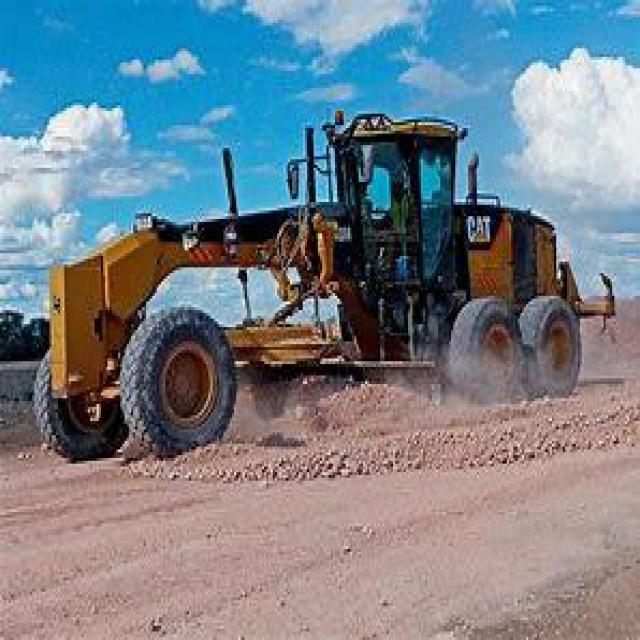Grader: (6, 105, 602, 458)
